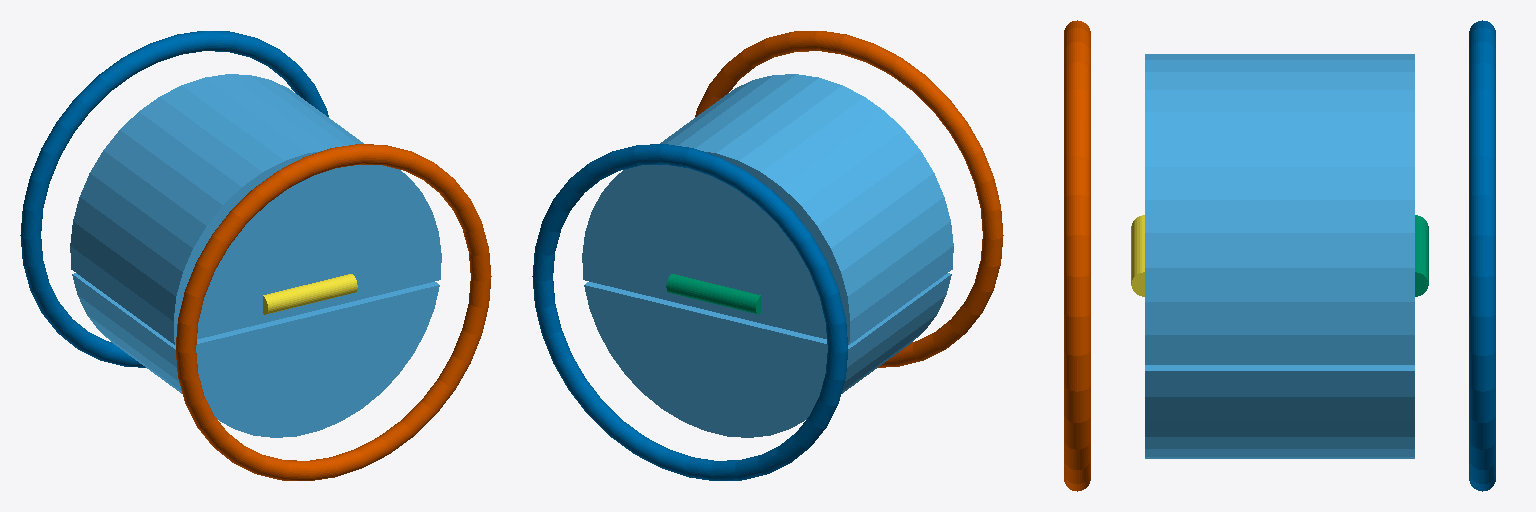
robot.urdf — panporter:
<?xml version="1.0" encoding="utf-8"?>
<!-- =================================================================================== -->
<!-- |    This document was autogenerated by xacro from panporter.urdf.xacro           | -->
<!-- |    EDITING THIS FILE BY HAND IS NOT RECOMMENDED                                 | -->
<!-- =================================================================================== -->
<robot name="panporter">
  <!-- * * * link definitions * * * -->
  <link name="base_footprint"/>
  <joint name="base_joint" type="fixed">
    <parent link="base_footprint"/>
    <child link="robot_cover"/>
    <origin rpy="0 0 0" xyz="0 0 0.010"/>
  </joint>
  <link name="robot_cover">
    <pose>0 0 0.35 0 0 0</pose>
    <visual>
      <geometry>
        <mesh filename="package://panporter_pkg/urdf/robot_cover.stl" scale="1.0 1.0 1.0"/>
      </geometry>
      <origin rpy="0 0 -1.570796327" xyz="0 0 0"/>
      <!-- <material name="yellow">
        <color rgba="1 1 0 0.4"/>
      </material> -->
    </visual>
    <collision>
      <geometry>
        <mesh filename="package://panporter_pkg/urdf/robot_cover.stl" scale="1.0 1.0 1.0"/>
      </geometry>
      <origin rpy="0 0 -1.570796327" xyz="0 0 0"/>
      <!-- <material name="yellow">
        <color rgba="1 1 0 0.4"/>
      </material> -->
    </collision>
    <inertial>
      <mass value="10.0"/>
      <inertia ixx="1.0" ixy="0.1" ixz="0.1" iyy="1.0" iyz="0.1" izz="1.0"/>
      <origin rpy="0 0 -1.570796327" xyz="0 0 0"/>
    </inertial>
  </link>
  <!-- <gazebo reference="robot_cover">
    <kp> 1000000.0</kp>
    <kd> 0.0 </kd>
    <mu1> 10.0 </mu1>
    <mu2> 10.0 </mu2>
  </gazebo> -->
  <joint name="prism_left_joint" type="prismatic">
    <parent link="robot_cover"/>
    <child link="prism_left_blue_link"/>
    <origin rpy="0 0 0" xyz="0 0.2 0"/>
    <axis xyz="1 0 0"/>
    <limit effort="300" lower="-0.1" upper="0.1" velocity="1.0"/>
    <safety_controller k_position="20" k_velocity="20" soft_lower_limit="-0.15" soft_upper_limit="0.15"/>
    <dynamics damping="50" friction="1.0"/>
  </joint>
  <joint name="prism_right_joint" type="prismatic">
    <parent link="robot_cover"/>
    <child link="prism_right_blue_link"/>
    <origin rpy="0 0 0" xyz="0 -0.2 0"/>
    <axis xyz="1 0 0"/>
    <limit effort="300" lower="-0.1" upper="0.1" velocity="1.0"/>
    <safety_controller k_position="20" k_velocity="20" soft_lower_limit="-0.15" soft_upper_limit="0.15"/>
    <dynamics damping="50" friction="1.0"/>
  </joint>
  <transmission name="prism_left_trans">
    <type>transmission_interface/SimpleTransmission</type>
    <joint name="prism_left_joint">
      <hardwareInterface>hardware_interface/EffortJointInterface</hardwareInterface>
    </joint>
    <actuator name="prism_left_motor">
      <mechanicalReduction>1</mechanicalReduction>
      <hardwareInterface>hardware_interface/EffortJointInterface</hardwareInterface>
    </actuator>
  </transmission>
  <transmission name="prism_right_trans">
    <type>transmission_interface/SimpleTransmission</type>
    <joint name="prism_right_joint">
      <hardwareInterface>hardware_interface/EffortJointInterface</hardwareInterface>
    </joint>
    <actuator name="prism_right_motor">
      <mechanicalReduction>1</mechanicalReduction>
      <hardwareInterface>hardware_interface/EffortJointInterface</hardwareInterface>
    </actuator>
  </transmission>
  <link name="prism_left_blue_link">
    <pose>0 0 0.35 0 0 0</pose>
    <visual>
      <geometry>
        <cylinder length="0.2" radius="0.02"/>
      </geometry>
      <origin rpy="0 -1.570796327 0" xyz="0 0 0"/>
      <!-- <material name="blue">
        <color rgba="0 0 1 1"/>
      </material> -->
    </visual>
    <collision>
      <geometry>
        <cylinder length="0.2" radius="0.02"/>
      </geometry>
      <origin rpy="0 -1.570796327 0" xyz="0 0 0"/>
    </collision>
    <inertial>
      <mass value="0.1"/>
      <inertia ixx="0.01" ixy="0.1" ixz="0.1" iyy="0.01" iyz="0.1" izz="0.01"/>
    </inertial>
  </link>
  <link name="prism_right_blue_link">
    <pose>0 0 0.35 0 0 0</pose>
    <visual>
      <geometry>
        <cylinder length="0.2" radius="0.02"/>
      </geometry>
      <origin rpy="0 1.570796327 0" xyz="0 0 0"/>
      <!-- <material name="blue">
        <color rgba="0 0 1 1"/>
      </material> -->
    </visual>
    <collision>
      <geometry>
        <cylinder length="0.2" radius="0.02"/>
      </geometry>
      <origin rpy="0 -1.570796327 0" xyz="0 0 0"/>
    </collision>
    <inertial>
      <mass value="0.1"/>
      <inertia ixx="0.01" ixy="0.1" ixz="0.1" iyy="0.01" iyz="0.1" izz="0.01"/>
    </inertial>
  </link>
  <joint name="wheel_left_joint" type="continuous">
    <parent link="prism_left_blue_link"/>
    <child link="wheel_left_link"/>
    <origin rpy="0 0 0" xyz="0 0.1 0"/>
    <axis xyz="0 1 0"/>
    <limit effort="300" velocity="10000"/>
    <dynamics damping="50" friction="1"/>
  </joint>
  <transmission name="wheel_left_trans">
    <type>transmission_interface/SimpleTransmission</type>
    <joint name="wheel_left_joint">
      <hardwareInterface>hardware_interface/EffortJointInterface</hardwareInterface>
    </joint>
    <actuator name="wheel_left_motor">
      <mechanicalReduction>10</mechanicalReduction>
      <hardwareInterface>hardware_interface/EffortJointInterface</hardwareInterface>
    </actuator>
  </transmission>
  <link name="wheel_left_link">
    <pose>0 0 0.35 0 0 0</pose>
    <visual>
      <geometry>
        <mesh filename="package://panporter_pkg/urdf/wheel.stl" scale="1.0 1.0 1.0"/>
      </geometry>
      <origin rpy="1.570796327 0 0" xyz="0 0 0"/>
      <!-- <material name="red">
        <color rgba="1 0 0 0.4"/>
      </material> -->
    </visual>
    <collision>
      <geometry>
        <mesh filename="package://panporter_pkg/urdf/wheel.stl" scale="1.0 1.0 1.0"/>
      </geometry>
      <origin rpy="1.570796327 0 0" xyz="0 0 0"/>
    </collision>
    <inertial>
      <mass value="1"/>
      <inertia ixx="0.5" ixy="0.1" ixz="0.1" iyy="0.5" iyz="0.1" izz="0.5"/>
    </inertial>
  </link>
  <!-- <gazebo reference="wheel_left_link">
    <material>Gazebo/Green</material>
  </gazebo> -->
  <joint name="wheel_right_joint" type="continuous">
    <parent link="prism_right_blue_link"/>
    <child link="wheel_right_link"/>
    <origin rpy="0 0 0" xyz="0 -0.1 0"/>
    <axis xyz="0 1 0"/>
    <limit effort="300" velocity="10000"/>
    <!-- lower="-1.570796327" upper="1.570796327"/> -->
    <dynamics damping="50" friction="1"/>
  </joint>
  <transmission name="wheel_right_trans">
    <type>transmission_interface/SimpleTransmission</type>
    <joint name="wheel_right_joint">
      <hardwareInterface>hardware_interface/EffortJointInterface</hardwareInterface>
    </joint>
    <actuator name="wheel_right_motor">
      <mechanicalReduction>10</mechanicalReduction>
      <hardwareInterface>hardware_interface/EffortJointInterface</hardwareInterface>
    </actuator>
  </transmission>
  <link name="wheel_right_link">
    <pose>0 0 0.35 0 0 0</pose>
    <visual>
      <geometry>
        <mesh filename="package://panporter_pkg/urdf/wheel.stl" scale="1.0 1.0 1.0"/>
      </geometry>
      <origin rpy="1.570796327 0 0" xyz="0 0 0"/>
      <!-- <material name="red">
        <color rgba="1 0 0 0.4"/>
      </material> -->
    </visual>
    <collision>
      <geometry>
        <mesh filename="package://panporter_pkg/urdf/wheel.stl" scale="1.0 1.0 1.0"/>
      </geometry>
      <origin rpy="1.570796327 0 0" xyz="0 0 0"/>
    </collision>
    <inertial>
      <mass value="1"/>
      <inertia ixx="0.5" ixy="0.1" ixz="0.1" iyy="0.5" iyz="0.1" izz="0.5"/>
    </inertial>
  </link>
  <!-- <gazebo reference="wheel_left_link">
    <material>Gazebo/Red</material>
  </gazebo> -->
  <joint name="imu_joint" type="fixed">
    <parent link="robot_cover"/>
    <child link="imu_link"/>
    <origin rpy="0 0 0" xyz="0.0 0 0.068"/>
  </joint>
  <link name="imu_link"/>
  <joint name="scan_joint" type="fixed">
    <parent link="robot_cover"/>
    <child link="base_scan"/>
    <origin rpy="0 0 0" xyz="0 0 -0.045"/>
  </joint>
  <link name="base_scan">
    <visual>
      <origin rpy="0 0 0" xyz="0 0 0"/>
      <geometry>
        <mesh filename="package://turtlebot3_description/meshes/sensors/lds.stl" scale="0.001 0.001 0.001"/>
      </geometry>
      <material name="dark"/>
    </visual>
    <collision>
      <origin rpy="0 0 0" xyz="0.015 0 -0.0065"/>
      <geometry>
        <cylinder length="0.0315" radius="0.055"/>
      </geometry>
    </collision>
    <inertial>
      <mass value="0.114"/>
      <origin xyz="0 0 0"/>
      <inertia ixx="0.001" ixy="0.1" ixz="0.1" iyy="0.001" iyz="0.1" izz="0.001"/>
    </inertial>
  </link>
  <joint name="camera_joint" type="fixed">
    <origin rpy="0 0 0" xyz="0.064 -0.065 0.094"/>
    <parent link="robot_cover"/>
    <child link="camera_link"/>
  </joint>
  <link name="camera_link">
    <visual>
      <origin rpy="0 0 0" xyz="0.003 2.065 0.007"/>
      <geometry>
        <!-- <mesh filename="package://turtlebot3_gazebo/models/kinect/meshes/kinect.dae" /> -->
        <mesh filename="package://turtlebot3_description/meshes/sensors/lds.stl" scale="0.001 0.001 0.001"/>
      </geometry>
    </visual>
    <collision>
      <origin rpy="0 0 0" xyz="0.003 2.065 0.007"/>
      <geometry>
        <box size="0.012 0.132 0.020"/>
      </geometry>
    </collision>
    <!-- This inertial field needs doesn't contain reliable data!! -->
    <inertial>
      <mass value="0.564"/>
      <origin xyz="0 0 0"/>
      <inertia ixx="0.003881243" ixy="0.1" ixz="0.1" iyy="0.000498940" iyz="0.1" izz="0.003879257"/>
    </inertial>
  </link>
  <gazebo>
    <plugin filename="libgazebo_ros_diff_drive.so" name="differential_drive_controller">
      <alwaysOn>true</alwaysOn>
      <updateRate>100</updateRate>
      <leftJoint>wheel_left_joint</leftJoint>
      <rightJoint>wheel_right_joint</rightJoint>
      <torque>5</torque>
      <wheelSeparation>0.4</wheelSeparation>
      <wheelDiameter>0.7</wheelDiameter>
      <commandTopic>cmd_vel</commandTopic>
      <odometryTopic>odom</odometryTopic>
      <odometryFrame>odom</odometryFrame>
      <odometrySource>world</odometrySource>
      <robotBaseFrame>base_footprint</robotBaseFrame>
      <publishTf>true</publishTf>
      <publishOdomTF>true</publishOdomTF>
      <publishWheelTF>true</publishWheelTF>
      <publishWheelJointState>true</publishWheelJointState>
      <wheelAcceleration>0</wheelAcceleration>
      <wheelTorque>5</wheelTorque>
      <rosDebugLevel>na</rosDebugLevel>
      <legacyMode>true</legacyMode>
    </plugin>
  </gazebo>
  <gazebo>
    <plugin filename="libgazebo_ros_control.so" name="gazebo_ros_control">
      <robotNamespace>/panporter</robotNamespace>
      <robotSimType>gazebo_ros_control/DefaultRobotHWSim</robotSimType>
      <controlPeriod>0.002</controlPeriod>
      <legacyModeNS>false</legacyModeNS>
    </plugin>
    <plugin filename="libhector_gazebo_ros_imu.so" name="gazebo_ros_imu">
      <robotNamespace>/panporter</robotNamespace>
      <alwaysOn>true</alwaysOn>
      <updateRate>200.0</updateRate>
      <bodyName>robot_cover</bodyName>
      <topicName>/imu_bosch/data_raw</topicName>
      <gaussianNoise>0.02</gaussianNoise>
      <xyzOffsets>0 0 0</xyzOffsets>
      <rpyOffsets>0 0 0</rpyOffsets>
    </plugin>
  </gazebo>
  <!-- robot_cover -->
  <gazebo reference="robot_cover">
    <material value="Gazebo/Grey"/>
  </gazebo>
  <!-- prism_left_blue_link -->
  <gazebo reference="prism_left_blue_link">
    <material value="Gazebo/Blue"/>
  </gazebo>
  <!-- prism_right_blue_link -->
  <gazebo reference="prism_right_blue_link">
    <material value="Gazebo/Blue"/>
  </gazebo>
  <!-- wheel_left_link -->
  <gazebo reference="wheel_left_link">
    <material value="Gazebo/Red"/>
  </gazebo>
  <!-- wheel_right_link -->
  <gazebo reference="wheel_right_link">
    <material value="Gazebo/Red"/>
  </gazebo>
  <gazebo>
    <plugin filename="libgazebo_ros_imu.so" name="imu_plugin">
      <robotNamespace>/panporter</robotNamespace>
      <alwaysOn>true</alwaysOn>
      <bodyName>imu_link</bodyName>
      <frameName>imu_link</frameName>
      <topicName>imu</topicName>
      <serviceName>imu_service</serviceName>
      <gaussianNoise>0.0</gaussianNoise>
      <updateRate>0</updateRate>
      <imu>
        <noise>
          <type>gaussian</type>
          <rate>
            <mean>0.0</mean>
            <stddev>2e-4</stddev>
            <bias_mean>0.0000075</bias_mean>
            <bias_stddev>0.0000008</bias_stddev>
          </rate>
          <accel>
            <mean>0.0</mean>
            <stddev>1.7e-2</stddev>
            <bias_mean>0.1</bias_mean>
            <bias_stddev>0.001</bias_stddev>
          </accel>
        </noise>
      </imu>
    </plugin>
  </gazebo>
  <gazebo reference="base_scan">
    <material>Gazebo/FlatBlack</material>
    <sensor name="lds_lfcd_sensor" type="ray">
      <pose>0 0 0 0 0 0</pose>
      <visualize>true</visualize>
      <update_rate>5</update_rate>
      <ray>
        <scan>
          <horizontal>
            <samples>360</samples>
            <resolution>1</resolution>
            <min_angle>0.0</min_angle>
            <max_angle>6.28319</max_angle>
          </horizontal>
        </scan>
        <range>
          <min>0.120</min>
          <max>3.5</max>
          <resolution>0.015</resolution>
        </range>
        <noise>
          <type>gaussian</type>
          <mean>0.0</mean>
          <stddev>0.01</stddev>
        </noise>
      </ray>
      <plugin filename="libgazebo_ros_laser.so" name="gazebo_ros_lds_lfcd_controller">
        <topicName>scan</topicName>
        <frameName>base_scan</frameName>
      </plugin>
    </sensor>
  </gazebo>
  <!--link : https://www.raspberrypi.org/documentation/hardware/camera/-->
  <gazebo reference="camera_link">
    <sensor name="camera" type="depth">
      <visualize>true</visualize>
      <always_on>true</always_on>
      <update_rate>20.0</update_rate>
      <camera>
        <horizontal_fov>1.04719755133</horizontal_fov>
        <image>
          <format>B8G8R8</format>
          <width>640</width>
          <height>480</height>
        </image>
        <clip>
          <near>0.05</near>
          <far>8.0</far>
        </clip>
      </camera>
      <plugin filename="libgazebo_ros_openni_kinect.so" name="camera_plugin">
        <robotNamespace>/panporter</robotNamespace>
        <baseline>0.1</baseline>
        <alwaysOn>true</alwaysOn>
        <!-- Keep this zero, update_rate in the parent <sensor> tag
          will control the frame rate. -->
        <updateRate>10</updateRate>
        <cameraName>camera</cameraName>
        <imageTopicName>rgb/image_raw</imageTopicName>
        <depthImageTopicName>depth/image_raw</depthImageTopicName>
        <cameraInfoTopicName>rgb/camera_info</cameraInfoTopicName>
        <depthImageCameraInfoTopicName>depth/camera_info</depthImageCameraInfoTopicName>
        <pointCloudTopicName>depth/points</pointCloudTopicName>
        <frameName>robot_cover</frameName>
        <pointCloudCutoff>0.5</pointCloudCutoff>
        <pointCloudCutoffMax>3.0</pointCloudCutoffMax>
        <distortion_k1>0.0</distortion_k1>
        <distortion_k2>0.0</distortion_k2>
        <distortion_k3>0.0</distortion_k3>
        <distortion_t1>0.0</distortion_t1>
        <distortion_t2>0.0</distortion_t2>
        <CxPrime>0</CxPrime>
        <Cx>0</Cx>
        <Cy>0</Cy>
        <focalLength>0</focalLength>
        <hackBaseline>0</hackBaseline>
      </plugin>
    </sensor>
  </gazebo>
</robot>

--- Render facts (derived) ---
3 views of the same robot in one strip: view 1: azimuth 30°, elevation 25°; view 2: azimuth 150°, elevation 25°; view 3: azimuth 270°, elevation 25° (orthographic).
Robot: panporter — 9 links, 8 joints (2 continuous, 2 prismatic, 4 fixed); root link base_footprint; default pose: every joint at zero.
Links seen in each view (by area): view 1: robot_cover, wheel_right_link, wheel_left_link, prism_right_blue_link; view 2: robot_cover, wheel_left_link, wheel_right_link, prism_left_blue_link; view 3: robot_cover, wheel_left_link, wheel_right_link, prism_left_blue_link, prism_right_blue_link.
Link boxes in pixels (left/top/right/bottom): robot_cover: left=70, top=74, right=441, bottom=437; wheel_right_link: left=176, top=144, right=491, bottom=480; wheel_left_link: left=20, top=31, right=328, bottom=367; prism_right_blue_link: left=263, top=274, right=357, bottom=314; robot_cover: left=582, top=74, right=953, bottom=437; wheel_left_link: left=532, top=144, right=847, bottom=480; wheel_right_link: left=695, top=31, right=1003, bottom=367; prism_left_blue_link: left=666, top=274, right=760, bottom=314; robot_cover: left=1145, top=54, right=1414, bottom=458; wheel_left_link: left=1469, top=20, right=1495, bottom=491; wheel_right_link: left=1064, top=20, right=1090, bottom=491; prism_left_blue_link: left=1415, top=215, right=1428, bottom=296; prism_right_blue_link: left=1131, top=215, right=1144, bottom=296.
Size in the robot's own frame: 0.7 by 0.64 by 0.7 metres.
3 mesh visuals loaded from 3 distinct referenced files (2 ASCII STL); not drawn: 2 (reference not matched to a file when rendering).
